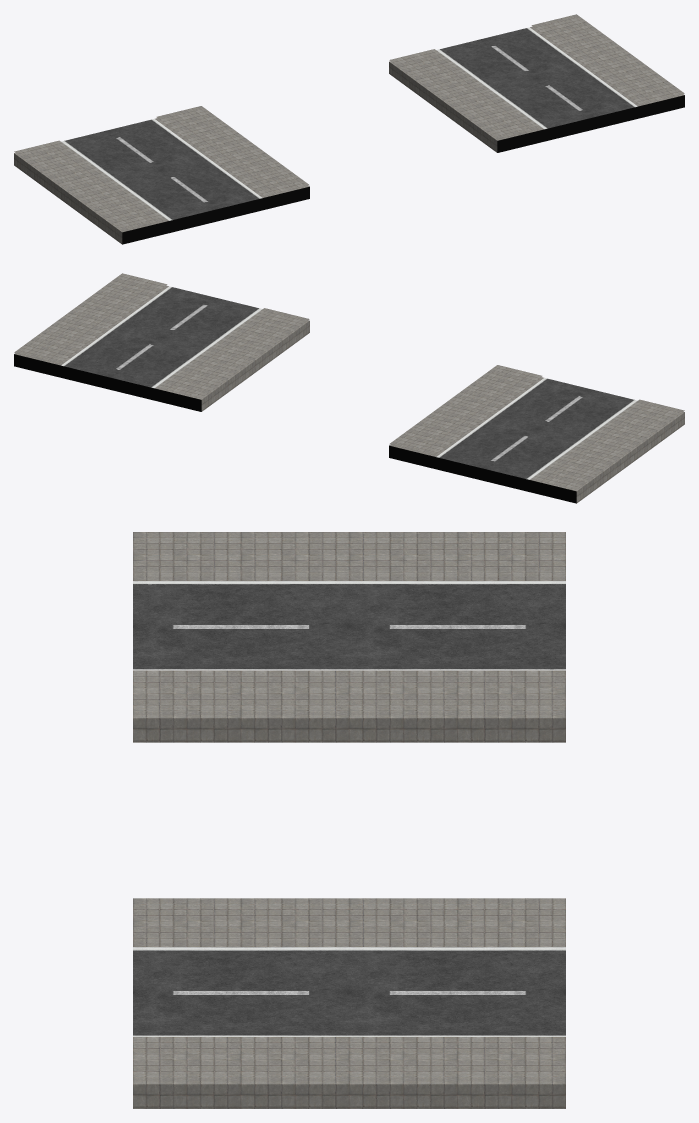
Rendered from doubleStraightShort_3.fbx.
3 views of the same model, one above another, from view 1: azimuth 30°, elevation 25°; view 2: azimuth 150°, elevation 25°; view 3: azimuth 270°, elevation 25° (orthographic). The views are drawn at different scales.
Visible parts, largest first — view 1: materialC150, materialA150, materialB150; view 2: materialC150, materialA150, materialB150; view 3: materialC150, materialA150.
Part boxes in pixels (x1,y1,x2,y2): materialC150: (14,14,684,244); materialA150: (61,27,637,220); materialB150: (122,95,684,244); materialC150: (14,273,684,503); materialA150: (61,286,637,479); materialB150: (14,354,576,503); materialC150: (133,532,565,1108); materialA150: (133,581,565,1036).
Size of the model in its own units: 76.8 by 1.8 by 25.6.
